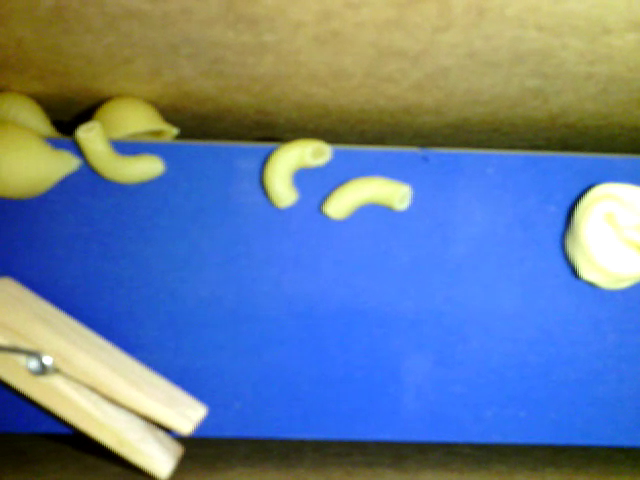elbow: (75, 121, 168, 186), (261, 135, 333, 211), (317, 173, 412, 223)
shell: (1, 124, 84, 200), (85, 92, 178, 140), (1, 89, 66, 140)
tortellini: (559, 182, 639, 292)
